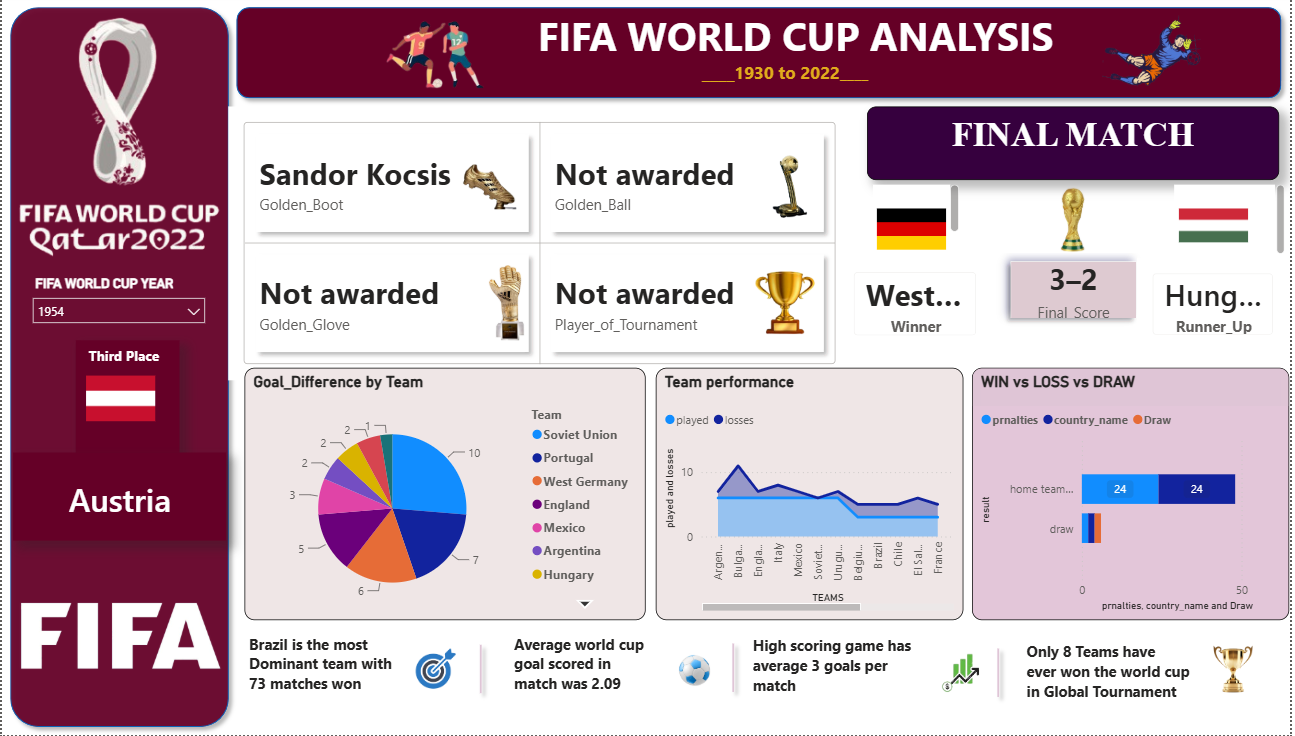

What the dashboard file says about the page in this screenshot:
{"tool":"powerbi","page":{"name":"Page 1","canvas":[1400,800],"ordinal":0},"visuals":[{"type":"shape","box":[245.9,0,1153.5,116.8],"z":0},{"type":"textbox","box":[441.6,0,789.4,95.1],"z":1000},{"type":"textbox","box":[603.3,58.4,495.9,58.4],"z":2000},{"type":"shape","box":[0,0,255.4,800.3],"z":3000},{"type":"cardVisual","fields":{"Data":["Min(tournaments_cleaned_with_fifa_awards.Golden_Boot)","Min(tournaments_cleaned_with_fifa_awards.Golden_Ball)","Min(tournaments_cleaned_with_fifa_awards.Golden_Glove)","Min(tournaments_cleaned_with_fifa_awards.Player_of_Tournament)"]},"box":[245.9,116.8,678,297.6],"z":4000},{"type":"image","box":[788,154.9,135.9,97.8],"z":5000},{"type":"image","box":[506.8,289.4,82.9,81.5],"z":6000},{"type":"image","box":[801.6,296.2,99.2,67.9],"z":7000},{"type":"image","box":[485.1,172.6,91,61.1],"z":8000},{"type":"image","box":[0,4.1,255.4,292.1],"z":9000},{"type":"textbox","box":[940.2,116.8,448.4,80.2],"z":10000},{"type":"slicer","fields":{"Values":["FINAL SCORE.Year"]},"box":[23.1,296.2,207.9,84.2],"z":11000},{"type":"tableEx","fields":{"Values":["CLEANED CSV.Winner_Flag_URL"]},"box":[940.2,197,104.6,85.6],"z":12000},{"type":"tableEx","fields":{"Values":["CLEANED_CSV_with_correct_flag_urls.Runner_Up_Flag_URL"]},"box":[1267.7,197,131.8,99.2],"z":13000},{"type":"cardVisual","fields":{"Data":["Min(CLEANED CSV.Final_Score)"]},"box":[1063.9,252.7,202.4,127.7],"z":14000},{"type":"cardVisual","fields":{"Data":["Min(CLEANED CSV.Runner_Up)"]},"box":[1233.7,281.3,165.8,101.9],"z":15000},{"type":"cardVisual","fields":{"Data":["Min(CLEANED CSV.Winner)"]},"box":[909,279.9,167.1,103.3],"z":16000},{"type":"image","box":[1108.7,203.8,112.8,72],"z":17000},{"type":"image","box":[1195.7,10.9,107.3,95.1],"z":18000},{"type":"image","box":[410.3,14.9,120.9,91],"z":19000},{"type":"tableEx","fields":{"Values":["CLEANED_CSV_with_3rd_place_flag_urls.Third_Flag_URL"]},"box":[80.2,370.9,112.8,122.3],"z":20000},{"type":"cardVisual","fields":{"Data":["Min(CLEANED_CSV_with_3rd_place_flag_urls.Third)"]},"box":[12.2,493.2,231,95.1],"z":21000},{"type":"pieChart","fields":{"Category":["group_standings-checkpoint.team_name","group_standings-checkpoint.goals_against"],"Y":["Sum(group_standings-checkpoint.goal_difference)"]},"box":[263.6,400.8,436.1,274.5],"z":21001},{"type":"stackedAreaChart","title":"Team performance","fields":{"Category":["group_standings-checkpoint.team_name"],"Y":["Sum(group_standings-checkpoint.played)","Sum(group_standings-checkpoint.losses)"]},"box":[710.6,400.8,334.2,274.5],"z":21002},{"type":"barChart","title":"WIN vs LOSS vs DRAW","fields":{"Y":["CountNonNull(matches_cleaned.score_penalties)","CountNonNull(matches_cleaned.country_name)","Sum(matches_cleaned.draw)"],"Category":["matches_cleaned.result"]},"box":[1054.4,400.8,345.1,274.5],"z":21003},{"type":"textbox","box":[263.6,684.8,288,78.8],"z":21004},{"type":"textbox","box":[551.6,684.8,236.4,96.5],"z":21005},{"type":"image","box":[726.9,697,51.6,65.2],"z":21006},{"type":"textbox","box":[811.1,686.1,264.9,87],"z":21007},{"type":"image","box":[1012.2,697,63.9,72],"z":21008},{"type":"image","box":[444.3,694.3,54.3,67.9],"z":21009},{"type":"textbox","box":[1108.7,692.9,290.8,81.5],"z":21010},{"type":"image","box":[1303,701.1,70.7,54.3],"z":21011},{"type":"shape","box":[491.9,692.9,57.1,70.7],"z":21012},{"type":"shape","box":[1054.4,697,57.1,70.7],"z":21014},{"type":"shape","box":[766.3,691.6,57.1,70.7],"z":21015},{"type":"image","box":[12.2,597.8,233.7,188.9],"z":21016}]}

Visuals, with their boxes in screenshot pixels (x1, y1, x2, y2), scaled from the page's 1400x800 canvas onto the 1295x736 screenshot:
shape: box(227, 0, 1294, 107)
textbox: box(408, 0, 1139, 87)
textbox: box(558, 54, 1017, 107)
shape: box(0, 0, 236, 735)
cardVisual - Min(tournaments_cleaned_with_fifa_awards.Golden_Boot) x Min(tournaments_cleaned_with_fifa_awards.Golden_Ball): box(227, 107, 855, 381)
image: box(729, 143, 855, 232)
image: box(469, 266, 545, 341)
image: box(741, 273, 833, 335)
image: box(449, 159, 533, 215)
image: box(0, 4, 236, 273)
textbox: box(870, 107, 1284, 181)
slicer - FINAL SCORE.Year: box(21, 273, 214, 350)
tableEx - CLEANED CSV.Winner_Flag_URL: box(870, 181, 966, 260)
tableEx - CLEANED_CSV_with_correct_flag_urls.Runner_Up_Flag_URL: box(1173, 181, 1294, 273)
cardVisual - Min(CLEANED CSV.Final_Score): box(984, 232, 1171, 350)
cardVisual - Min(CLEANED CSV.Runner_Up): box(1141, 259, 1294, 353)
cardVisual - Min(CLEANED CSV.Winner): box(841, 258, 995, 353)
image: box(1026, 187, 1130, 254)
image: box(1106, 10, 1205, 98)
image: box(380, 14, 491, 97)
tableEx - CLEANED_CSV_with_3rd_place_flag_urls.Third_Flag_URL: box(74, 341, 179, 454)
cardVisual - Min(CLEANED_CSV_with_3rd_place_flag_urls.Third): box(11, 454, 225, 541)
pieChart - group_standings-checkpoint.team_name x group_standings-checkpoint.goals_against: box(244, 369, 647, 621)
"Team performance" stackedAreaChart: box(657, 369, 966, 621)
"WIN vs LOSS vs DRAW" barChart: box(975, 369, 1294, 621)
textbox: box(244, 630, 510, 703)
textbox: box(510, 630, 729, 719)
image: box(672, 641, 720, 701)
textbox: box(750, 631, 995, 711)
image: box(936, 641, 995, 707)
image: box(411, 639, 461, 701)
textbox: box(1026, 637, 1294, 712)
image: box(1205, 645, 1271, 695)
shape: box(455, 637, 508, 703)
shape: box(975, 641, 1028, 706)
shape: box(709, 636, 762, 701)
image: box(11, 550, 227, 724)
